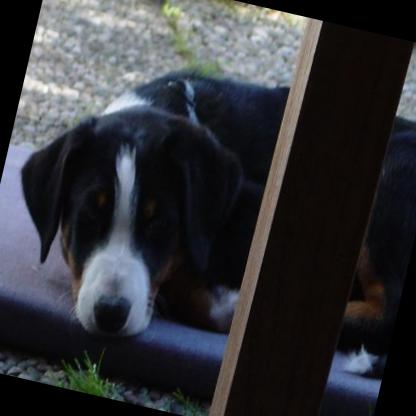Appenzeller: (0, 34, 416, 398)
